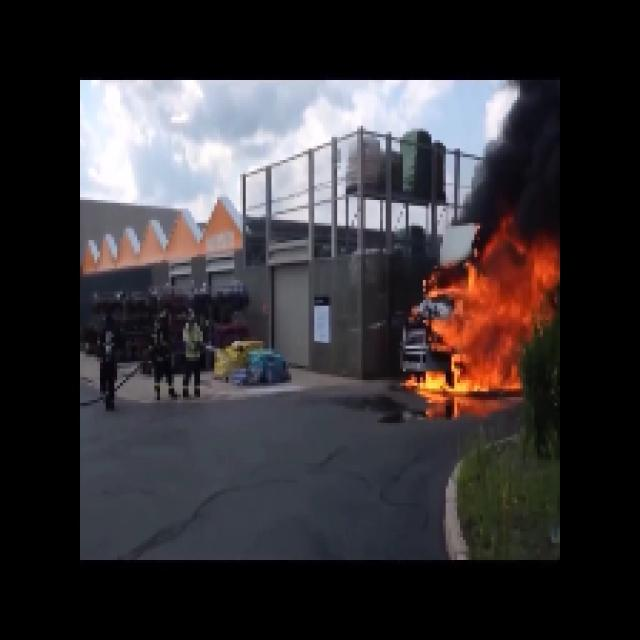Fire: (438, 228, 561, 404)
Smoke: (486, 82, 558, 225)
